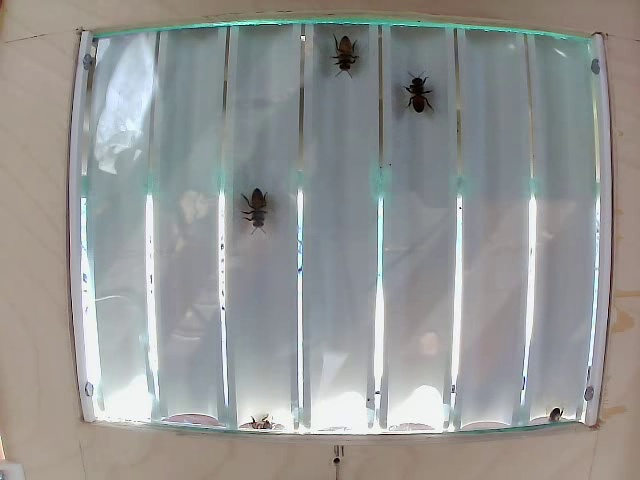bee: (326, 28, 360, 80), (403, 77, 442, 115), (241, 185, 275, 228)
